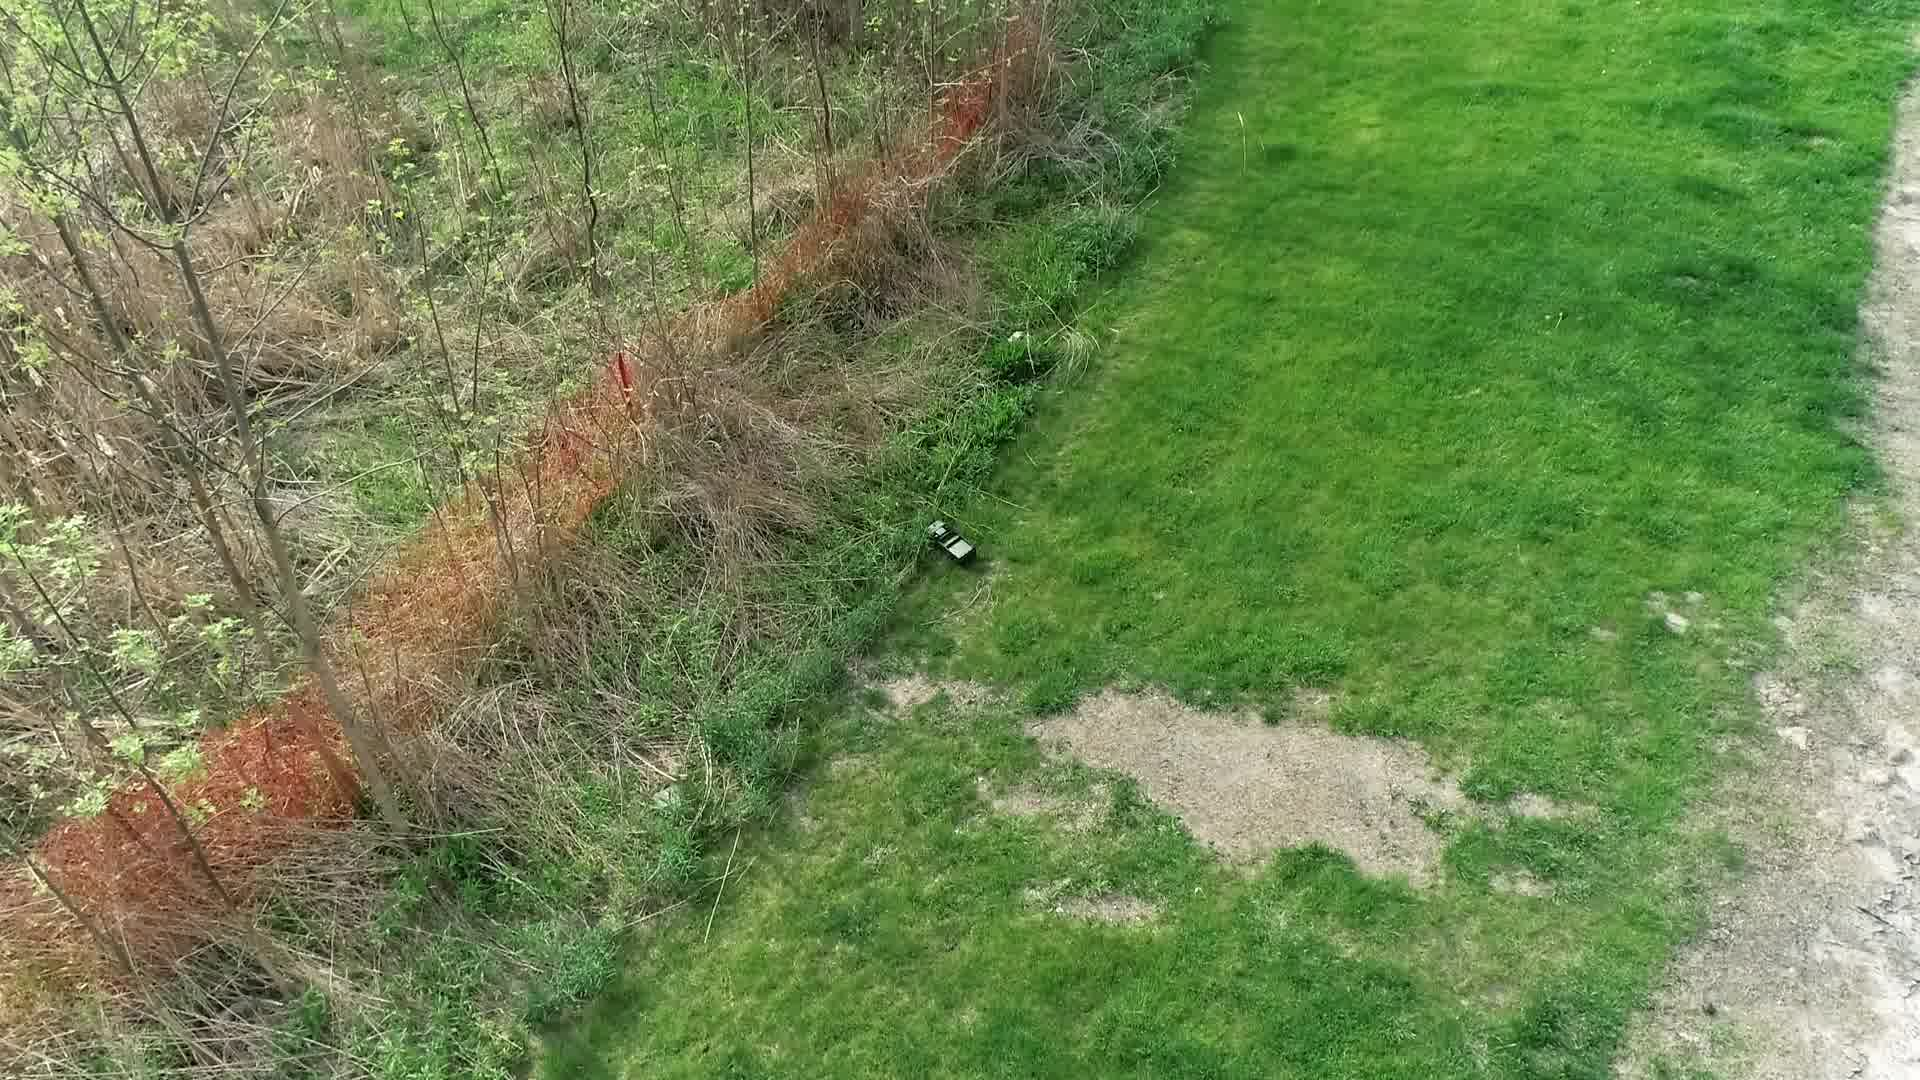transporter9: (926, 520, 978, 566)
